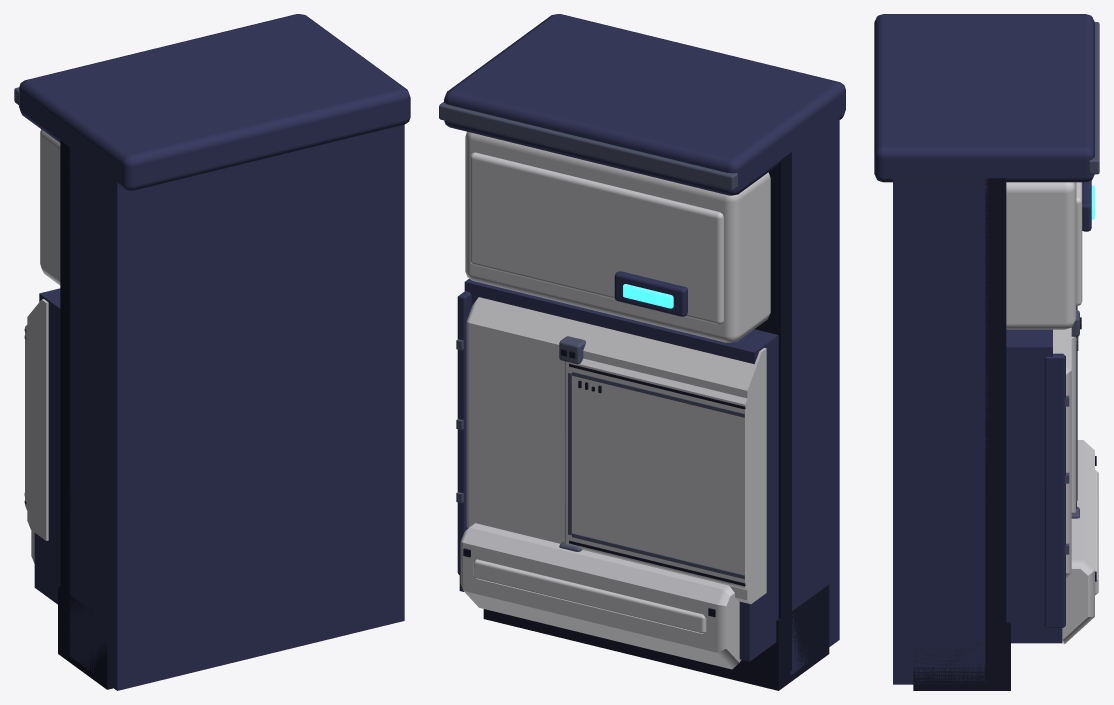
Rendered from hull.bay.plate_large.canopy_sill.none.plate.w1.414.s3.k-1.25.t-0.95_0.42_1.3_1.85_0.7071.glb.
3 views of the same model, side by side, from view 1: azimuth 30°, elevation 25°; view 2: azimuth 150°, elevation 25°; view 3: azimuth 270°, elevation 25° (orthographic). The views are drawn at different scales.
Parts seen in each view (by area): view 1: hull.bay.plate_large.canopy_sill.none.plate.w1.414.s3.k-1.25; view 2: hull.bay.plate_large.canopy_sill.none.plate.w1.414.s3.k-1.25; view 3: hull.bay.plate_large.canopy_sill.none.plate.w1.414.s3.k-1.25.
Boxes of the visible parts, x1,y1,x2,y2 form: hull.bay.plate_large.canopy_sill.none.plate.w1.414.s3.k-1.25: (14, 14, 410, 690); hull.bay.plate_large.canopy_sill.none.plate.w1.414.s3.k-1.25: (439, 14, 845, 690); hull.bay.plate_large.canopy_sill.none.plate.w1.414.s3.k-1.25: (874, 14, 1099, 690).
Bounding box in the file's own units: 1.42 × 2.56 × 0.9671.
